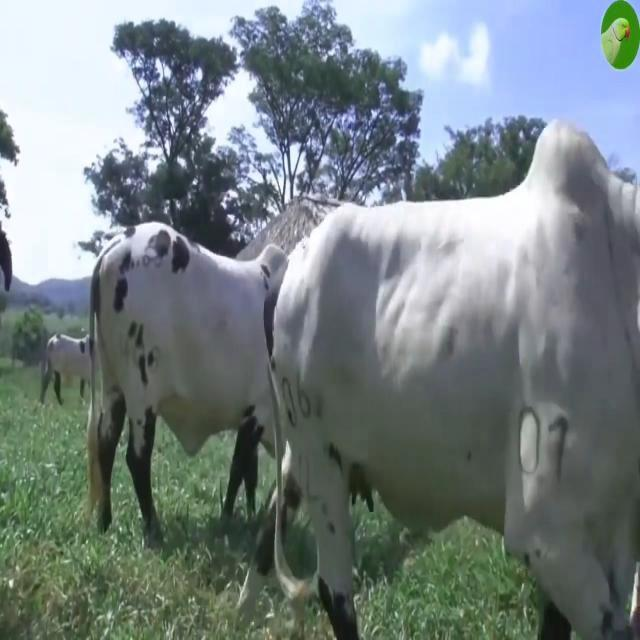cow: (272, 121, 640, 640), (88, 222, 286, 539)
